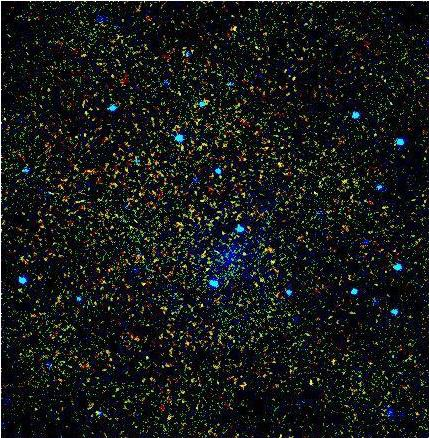star: (220, 11, 250, 41)
